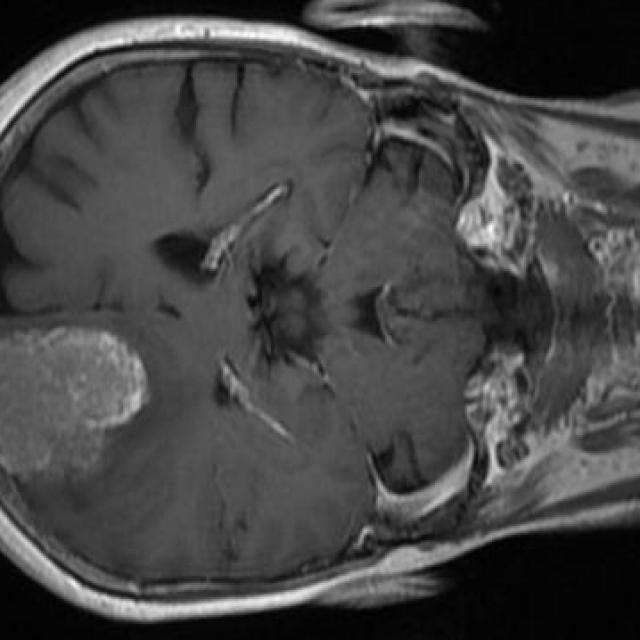meningioma: (0, 326, 146, 478)
